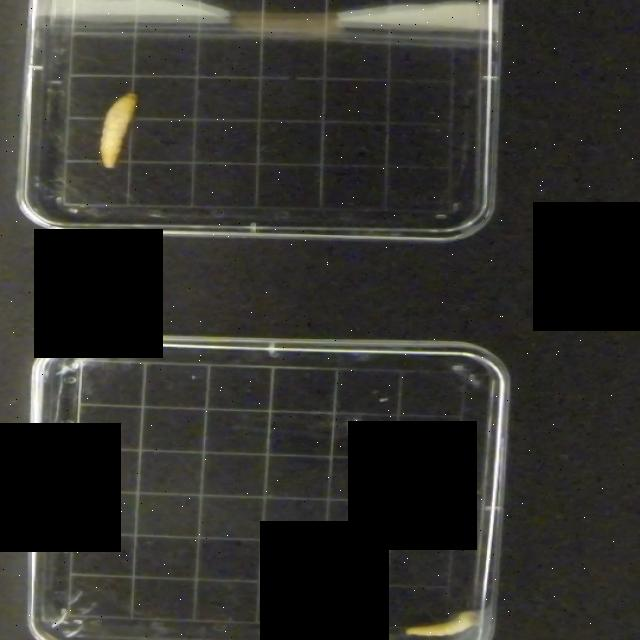larva: (94, 89, 145, 170), (403, 611, 483, 638)
